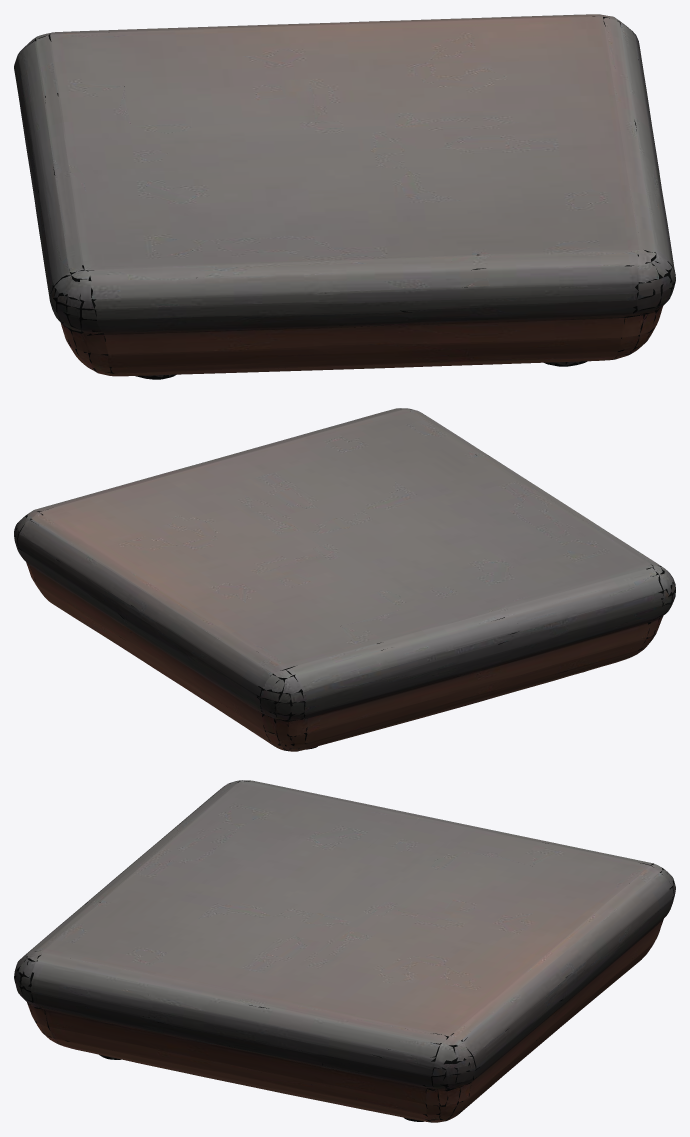
The model's file is black_laptop_partially_visible_on_the_wooden_cabinet_000.glb.
3 renders of one model, top to bottom at view 1: azimuth 30°, elevation 25°; view 2: azimuth 150°, elevation 25°; view 3: azimuth 270°, elevation 25°, orthographic. The views are drawn at different scales.
Parts seen in each view (by area): view 1: phase2_final_black_laptop_partially_visible_on_the_wooden_ca; view 2: phase2_final_black_laptop_partially_visible_on_the_wooden_ca; view 3: phase2_final_black_laptop_partially_visible_on_the_wooden_ca.
Part boxes in pixels (left/top/right/bottom): phase2_final_black_laptop_partially_visible_on_the_wooden_ca: left=14, top=14, right=675, bottom=379; phase2_final_black_laptop_partially_visible_on_the_wooden_ca: left=14, top=408, right=675, bottom=751; phase2_final_black_laptop_partially_visible_on_the_wooden_ca: left=14, top=780, right=675, bottom=1122.
Size of the model in its own units: 0.0922 by 0.0171 by 0.0919.
Materials: 1 (1 with a texture image).
